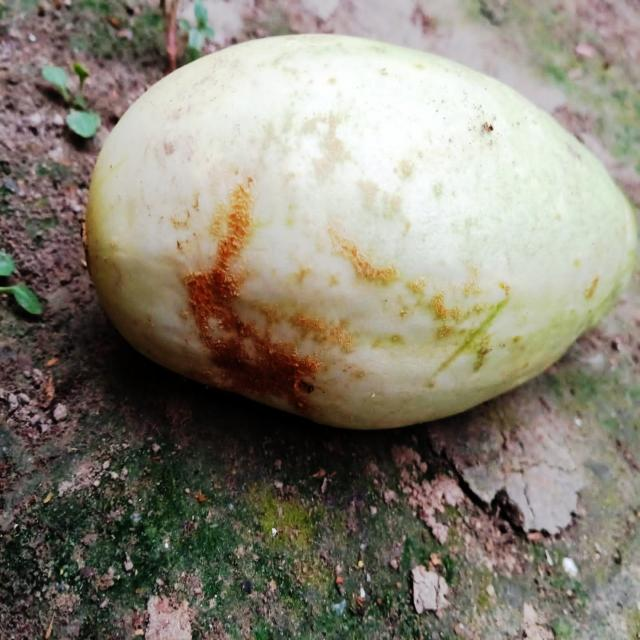Belly-Rot: (176, 165, 497, 412)
